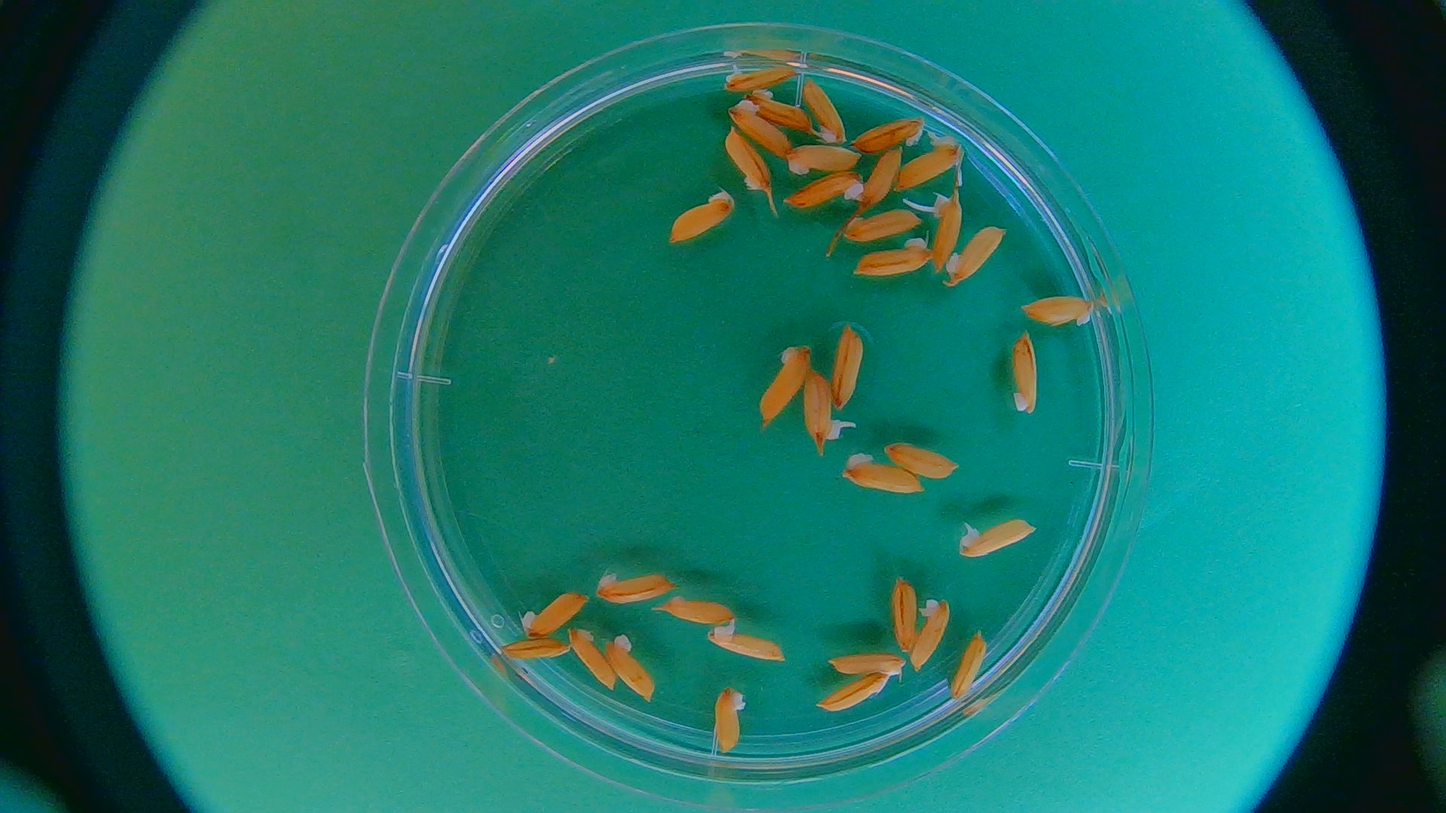no: (758, 343, 811, 427), (703, 612, 788, 662), (725, 99, 795, 157), (518, 586, 593, 637), (606, 629, 658, 701), (946, 226, 1004, 290), (722, 126, 776, 193), (844, 449, 922, 495), (670, 190, 734, 245), (944, 626, 988, 706), (813, 675, 892, 715), (851, 238, 932, 276), (748, 87, 819, 130), (568, 632, 618, 693), (828, 325, 865, 407), (1009, 332, 1045, 416), (801, 78, 849, 141), (706, 685, 749, 752), (884, 440, 959, 478), (847, 115, 926, 151), (596, 568, 675, 604), (784, 172, 865, 207), (1021, 291, 1096, 327), (912, 599, 947, 674), (660, 593, 735, 626), (787, 145, 865, 176), (844, 211, 921, 242), (865, 146, 901, 207), (828, 654, 907, 680), (892, 577, 916, 651), (500, 637, 570, 661)
yes: (905, 189, 959, 273), (895, 136, 964, 190), (801, 368, 840, 450), (955, 519, 1036, 558), (724, 60, 799, 91)
